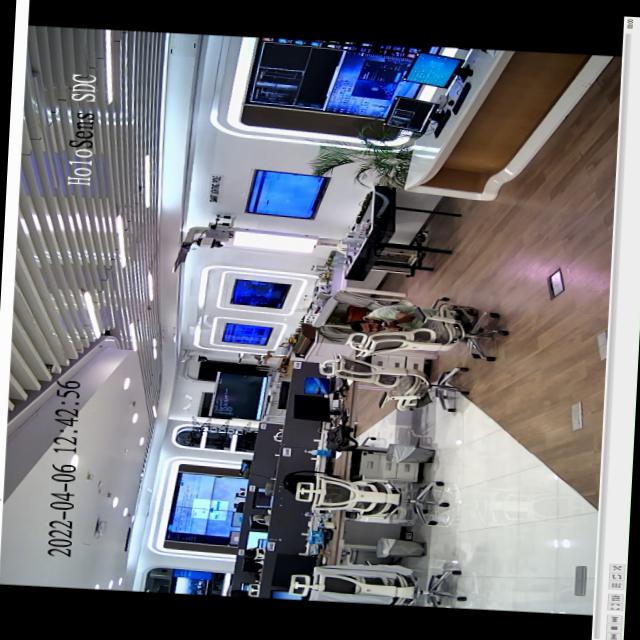long weapon: (367, 316, 402, 331)
